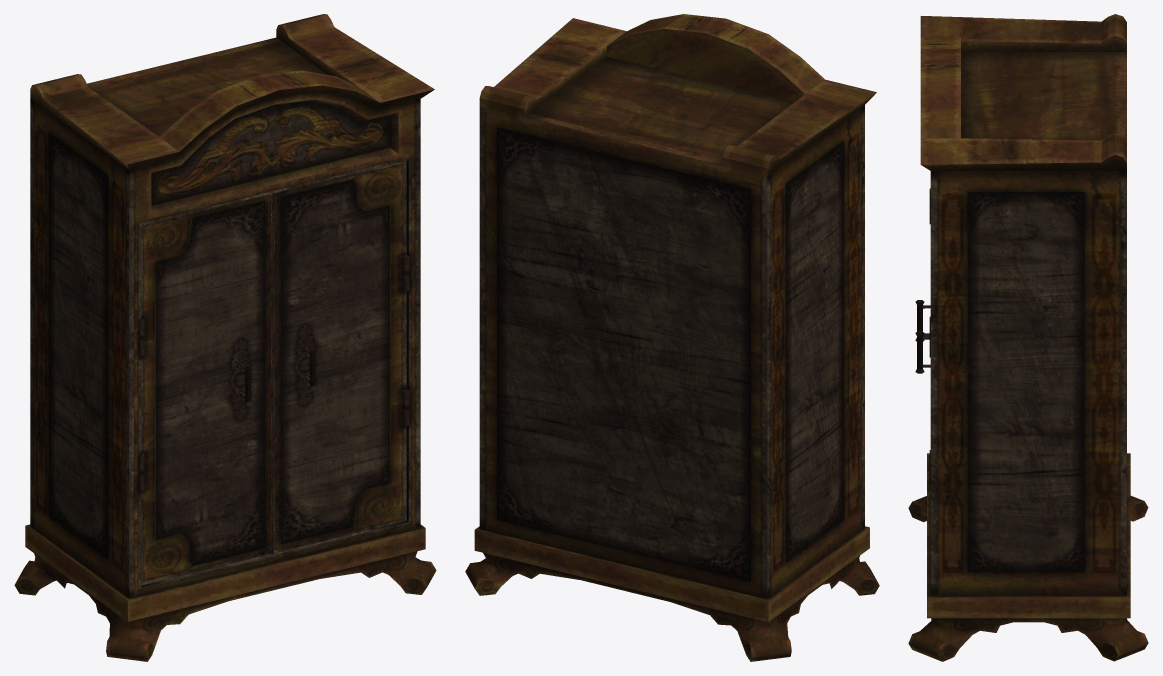
The model's file is cabinet_old.dae.
3 renders of one model, left to right at view 1: azimuth 30°, elevation 25°; view 2: azimuth 150°, elevation 25°; view 3: azimuth 270°, elevation 25°, orthographic.
Parts seen in each view (by area): view 1: polySurface38, polySurface36, polySurface37; view 2: polySurface38; view 3: polySurface38.
Part boxes in pixels (x1,y1,x2,y2): polySurface38: (14, 14, 436, 661); polySurface36: (273, 161, 406, 553); polySurface37: (141, 193, 272, 585); polySurface38: (465, 14, 879, 661); polySurface38: (908, 14, 1148, 661).
Size of the model in its own units: 1.93 by 2.98 by 1.22.
